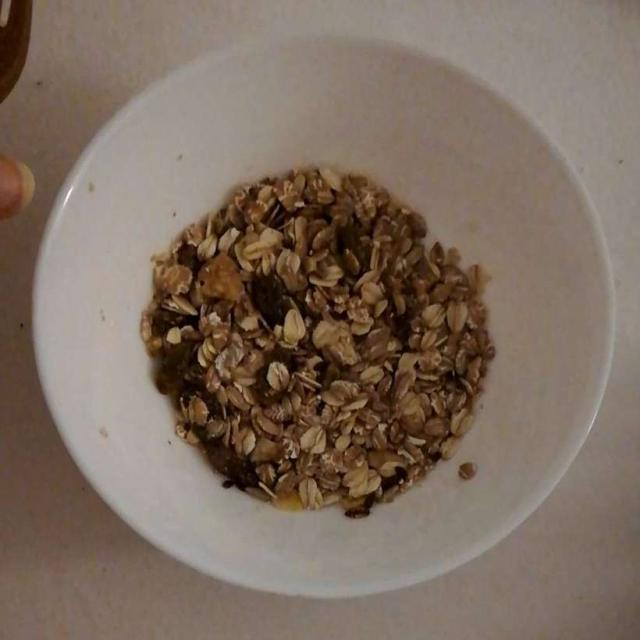crunch-muesli: (137, 161, 469, 511)
